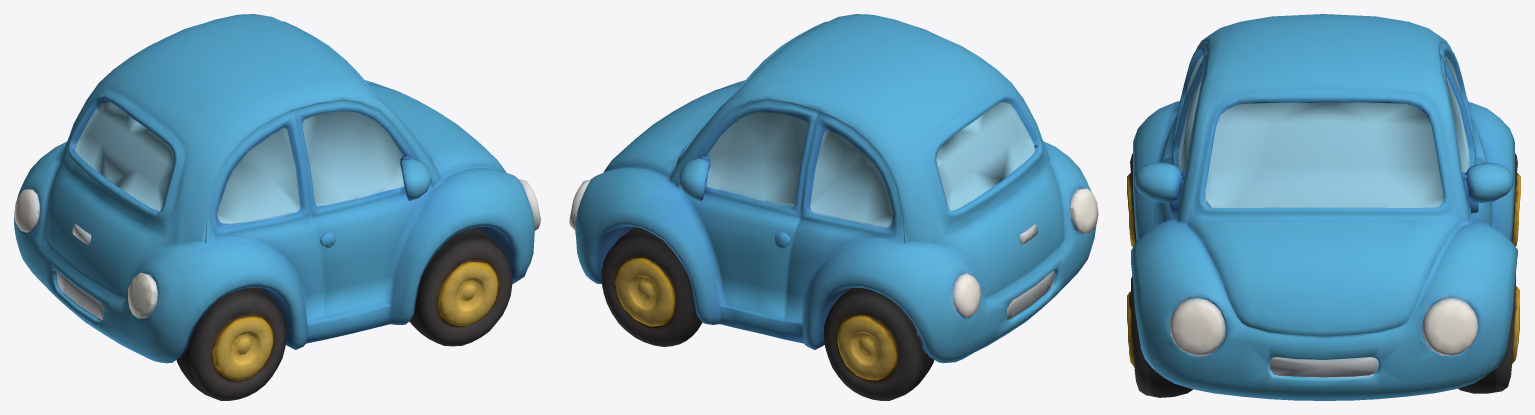
Rendered from car.glb.
3 renders of one model, left to right at view 1: azimuth 30°, elevation 25°; view 2: azimuth 150°, elevation 25°; view 3: azimuth 270°, elevation 25°, orthographic. The views are drawn at different scales.
Visible parts, largest first — view 1: tripo_node_2467ee88-0d47-4635-8253-18457fac2dce; view 2: tripo_node_2467ee88-0d47-4635-8253-18457fac2dce; view 3: tripo_node_2467ee88-0d47-4635-8253-18457fac2dce.
Part boxes in pixels (box(x1,y1,x2,y2)): tripo_node_2467ee88-0d47-4635-8253-18457fac2dce: box(14, 14, 540, 400); tripo_node_2467ee88-0d47-4635-8253-18457fac2dce: box(569, 14, 1098, 400); tripo_node_2467ee88-0d47-4635-8253-18457fac2dce: box(1127, 14, 1520, 400).
Size of the model in its own units: 0.998 by 0.623 by 0.7754.
1 material, 1 textured.
